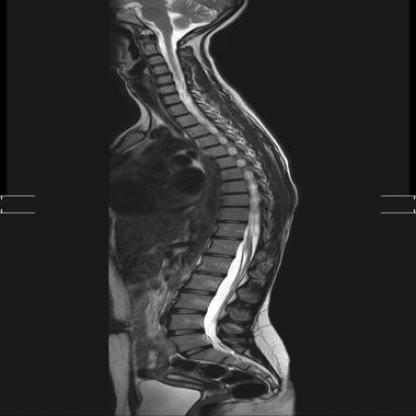Disc Bulgerotation: (220, 186, 250, 196), (219, 201, 249, 210), (222, 174, 243, 183), (152, 70, 171, 79)
